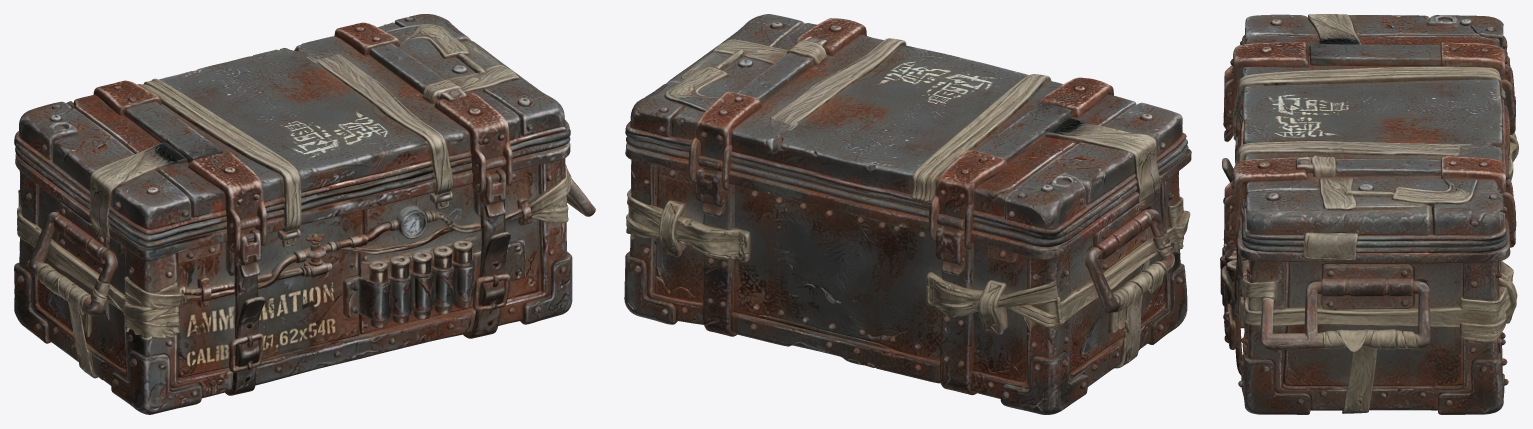
File: base_basic_pbr(7).glb
3 views of the same model, side by side, from view 1: azimuth 30°, elevation 25°; view 2: azimuth 150°, elevation 25°; view 3: azimuth 270°, elevation 25° (orthographic). The views are drawn at different scales.
Visible parts, largest first — view 1: model; view 2: model; view 3: model.
Part boxes in pixels (left/top/right/bottom): model: left=14, top=14, right=595, bottom=414; model: left=624, top=14, right=1191, bottom=414; model: left=1220, top=14, right=1518, bottom=414.
Size of the model in its own units: 1.9 by 0.827 by 1.04.
Materials: 1 (1 with a texture image).
